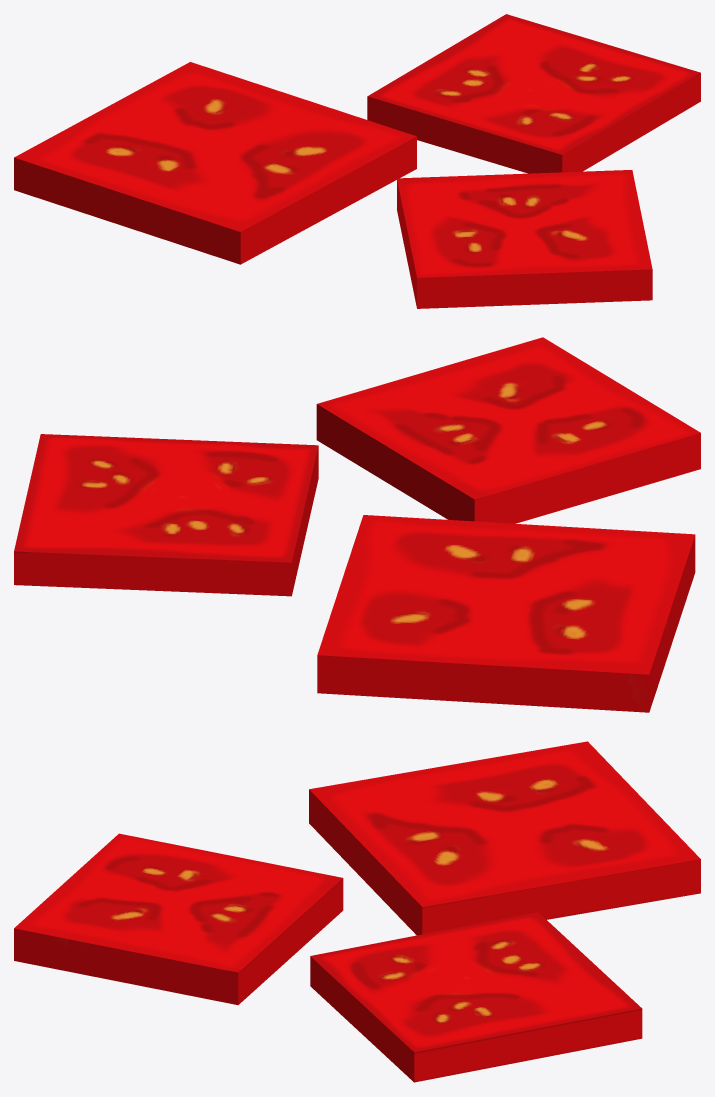
Rendered from Tomatos.glb.
3 views of the same model, one above another, from view 1: azimuth 30°, elevation 25°; view 2: azimuth 150°, elevation 25°; view 3: azimuth 270°, elevation 25° (orthographic). The views are drawn at different scales.
Visible parts, largest first — view 1: Hamburguer; view 2: Hamburguer; view 3: Hamburguer.
Part boxes in pixels (x1,y1,x2,y2): Hamburguer: [14, 14, 700, 308]; Hamburguer: [14, 337, 700, 712]; Hamburguer: [14, 741, 700, 1082].
Bounding box in the file's own units: 2.35 × 0.1214 × 2.21.
Materials: 1 (1 with a texture image).
